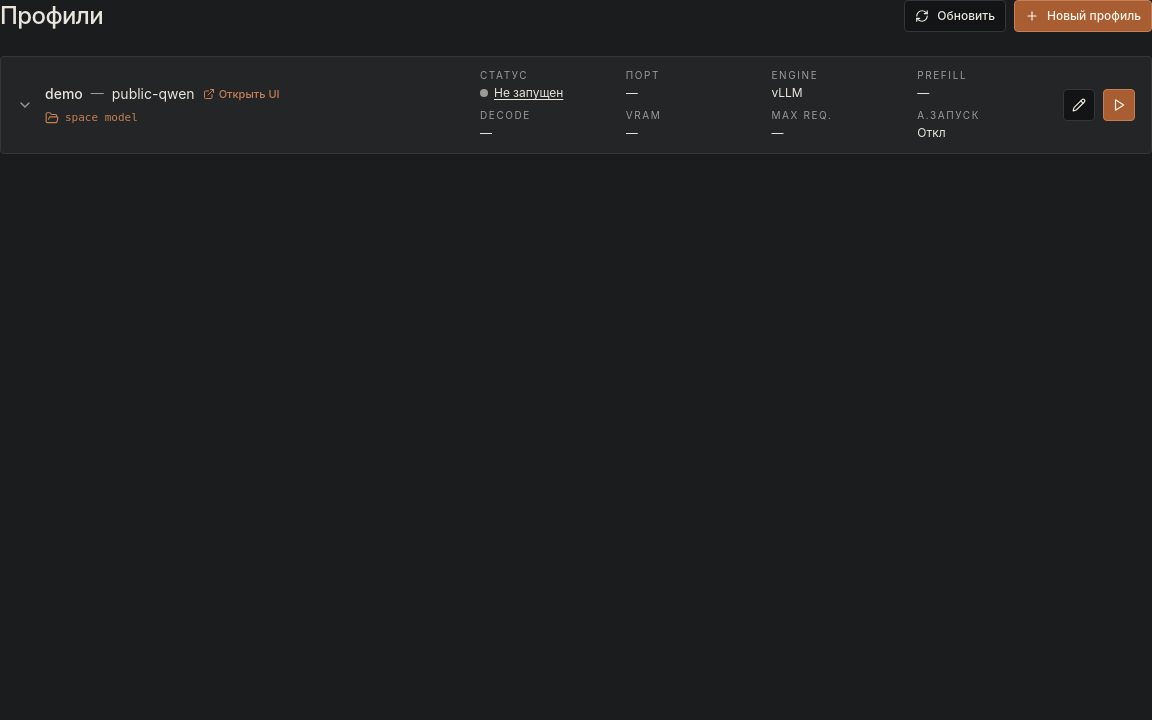
Test case: Profiles workflow › runs an edited configuration without saving or closing the dialog
The image size is (1152, 720).
Click the button named "Изменить" at (1079, 105), box [1063,89,1095,121]
(page scrolled)
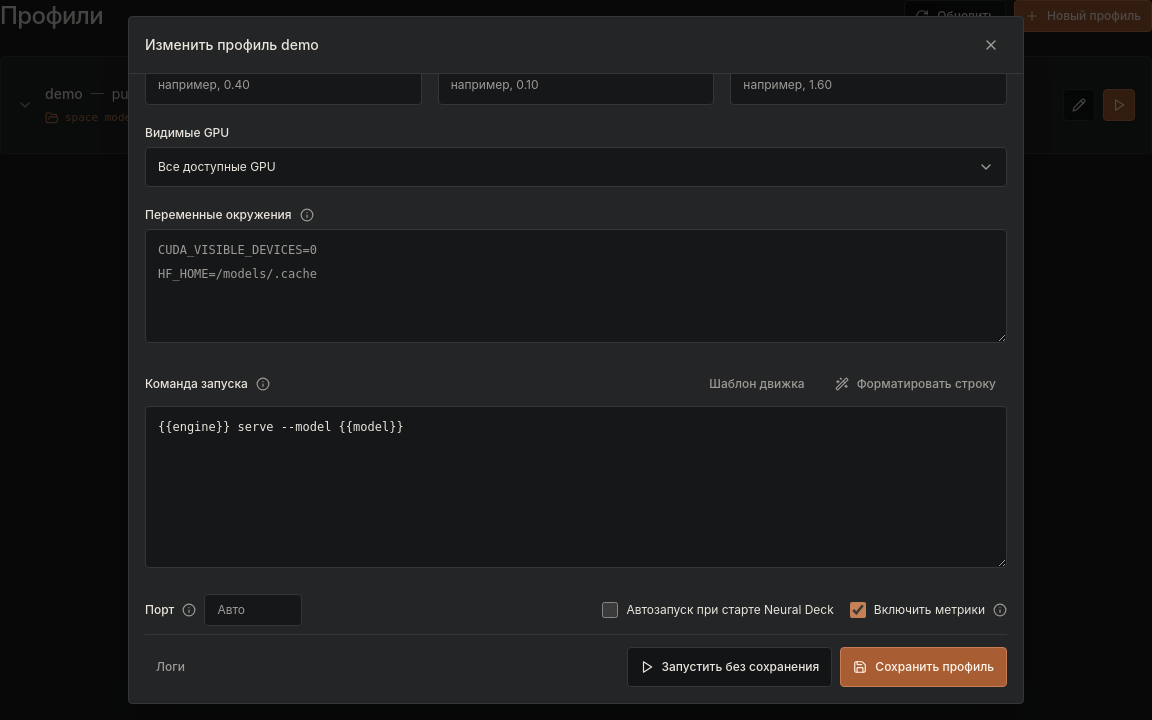
Now the button "Запустить без сохранения" is enabled, box [626,646,832,686]
Press Escape
Now the dialog "Изменить профиль demo" is shown
Press the mouse on the element that starts with "Изменить профиль demo" at (576, 360), box [0,0,1151,719]
Now the dialog "Изменить профиль demo" is shown
Click the button "Запустить без сохранения" at (729, 666), box [626,646,832,686]
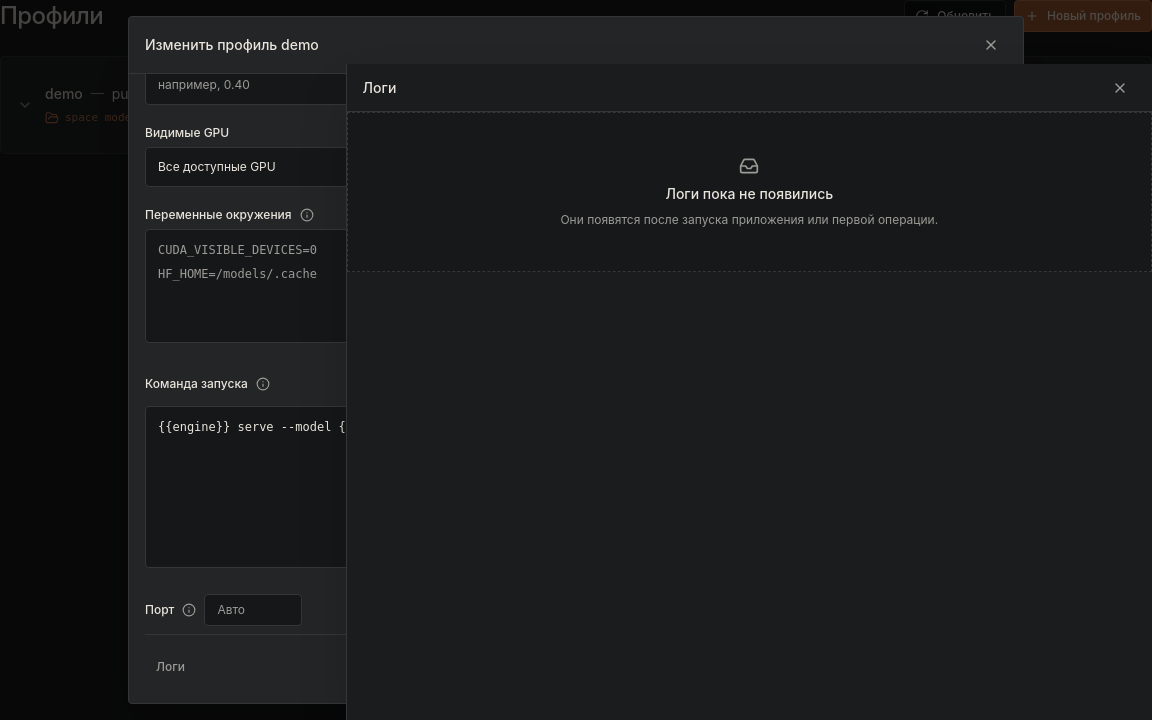
Now the dialog "Изменить профиль demo" is shown
Now the dialog "Логи" is shown
